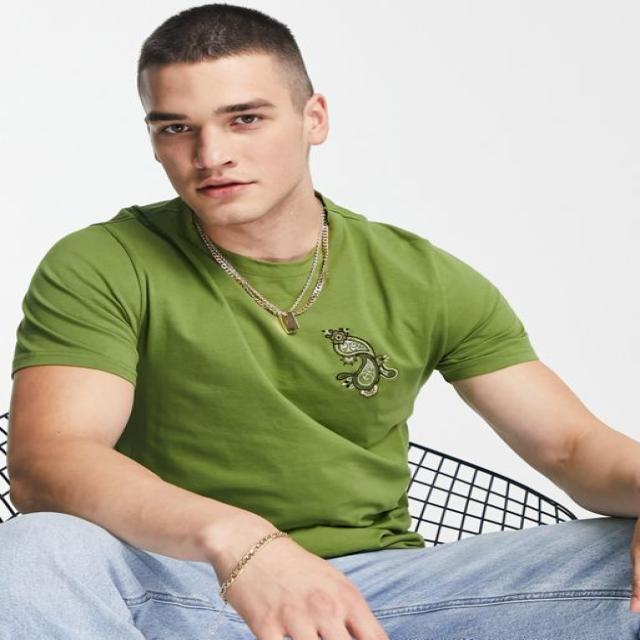tshirt: (11, 191, 536, 556)
